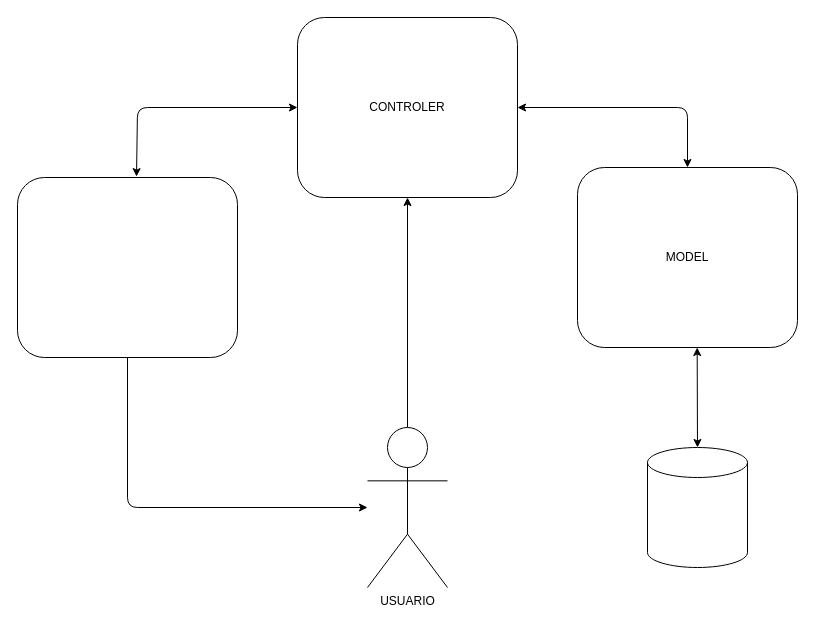
Some shapes in this 815 by 626 pixel diagram are drawn without their labels. Each missing label, with the centre of its shape:
"DB" belongs at (697,507).
"VIEW" belongs at (127,267).
